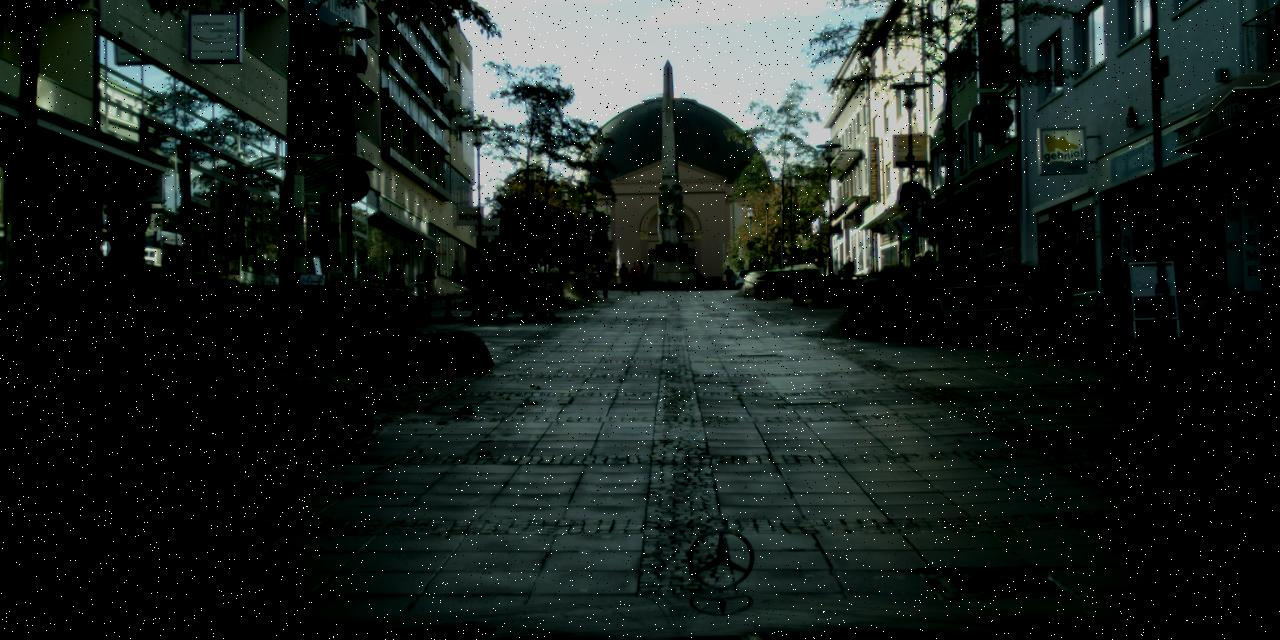ped: (386, 260, 405, 306), (918, 250, 934, 290), (597, 257, 612, 297), (628, 260, 642, 293), (470, 259, 482, 290), (842, 256, 853, 285), (618, 262, 629, 290), (634, 260, 645, 288), (491, 262, 502, 289), (723, 264, 733, 289)
